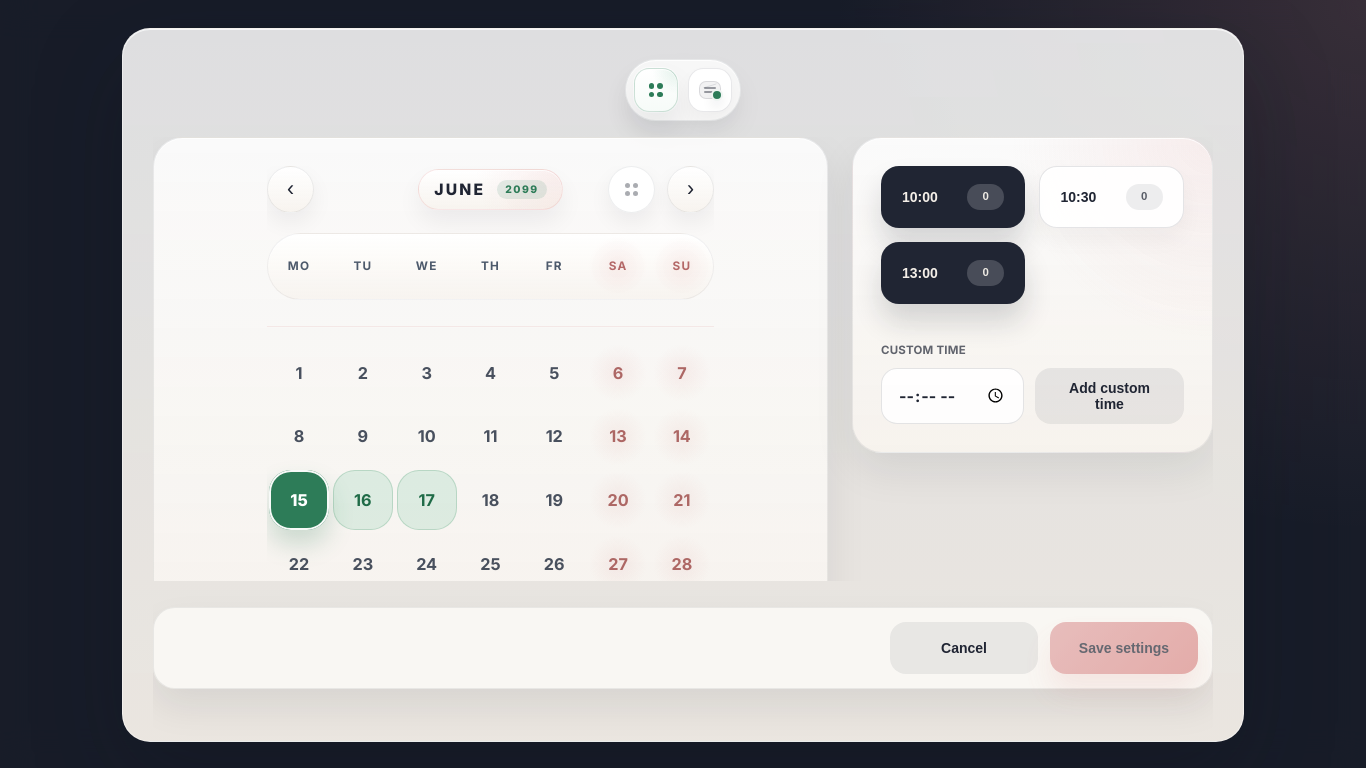
FreeTourScheduleEditorModal › selects the whole visible month with the icon shortcut
Click the button named "toggle multi-day selection". click: (632, 190)
box: [608,166,655,213]
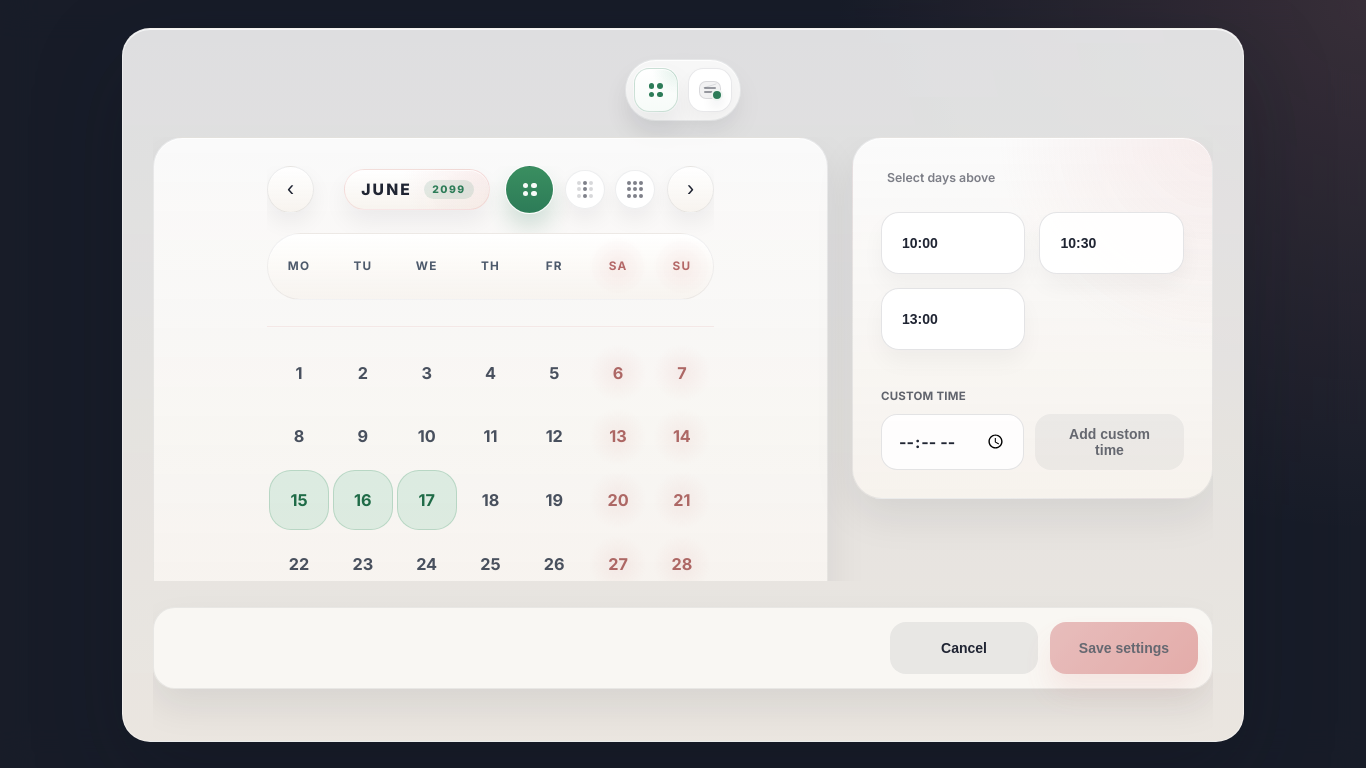
Click the button named "select visible month". click: (635, 190)
box: [615,170,655,210]
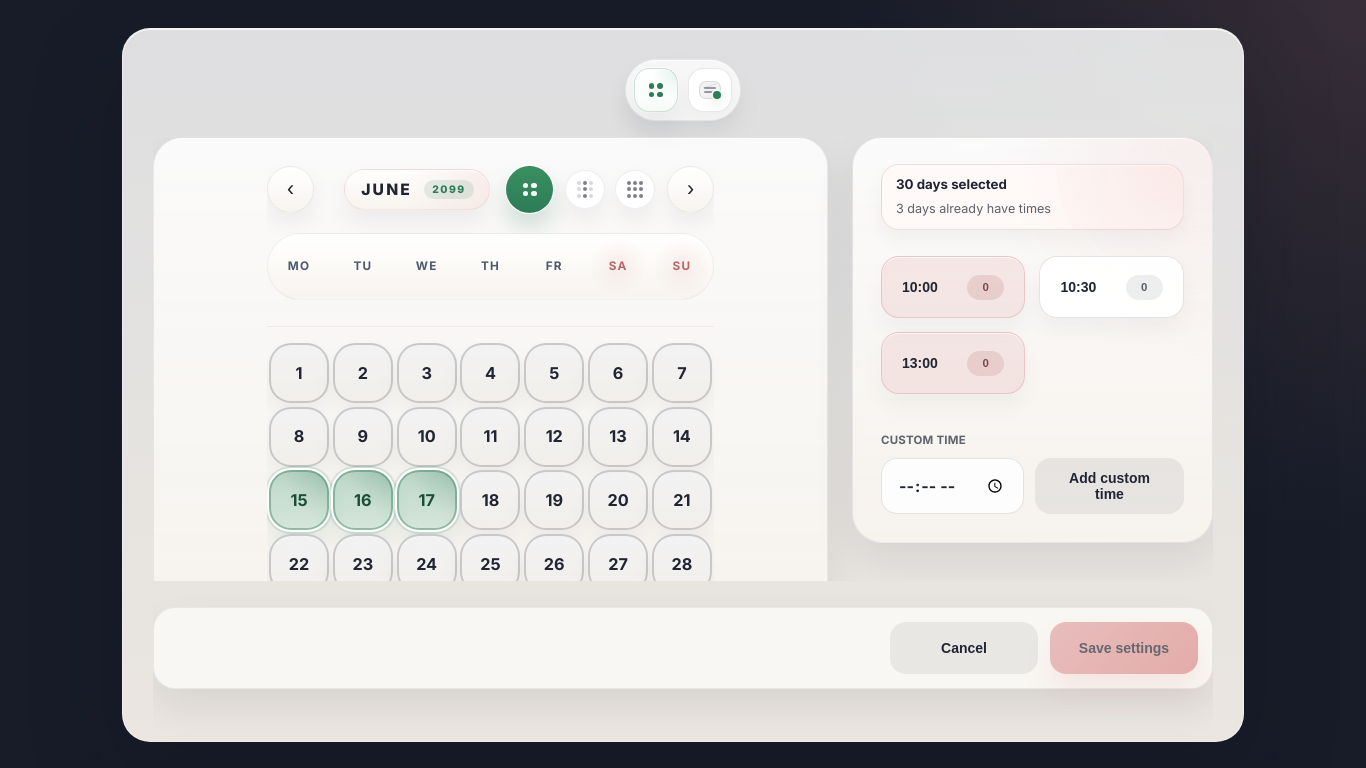
Expected: the text "30 days selected" is shown, [896,177,1007,193]
